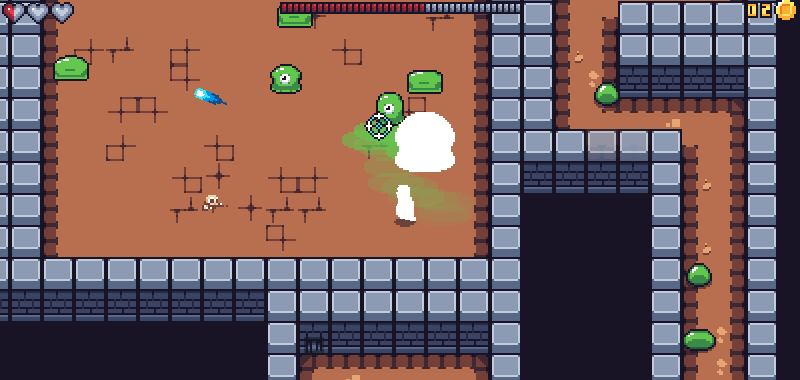enemy_slug: (682, 327, 715, 353), (684, 262, 712, 290), (595, 83, 617, 106)
enemy_slug_big: (406, 69, 445, 95), (54, 54, 90, 82), (269, 64, 303, 93), (378, 93, 405, 123)
